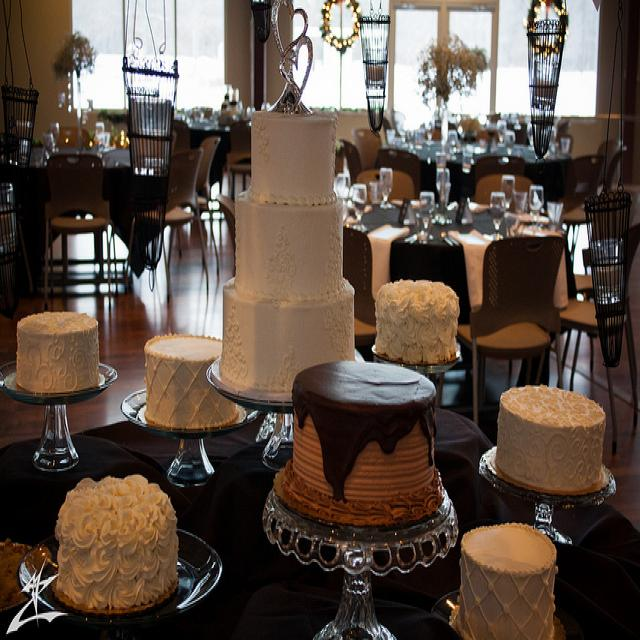chair: (52, 105, 639, 457), (470, 235, 565, 425), (105, 58, 180, 269), (38, 145, 122, 317), (163, 151, 208, 307), (343, 226, 376, 345), (197, 137, 222, 278), (373, 148, 422, 199), (357, 170, 415, 201), (475, 175, 532, 204), (566, 153, 604, 196), (352, 127, 382, 173), (335, 136, 362, 183), (474, 155, 528, 176)
dining table: (4, 357, 640, 631), (3, 309, 180, 454), (345, 204, 557, 245), (190, 127, 231, 196)
